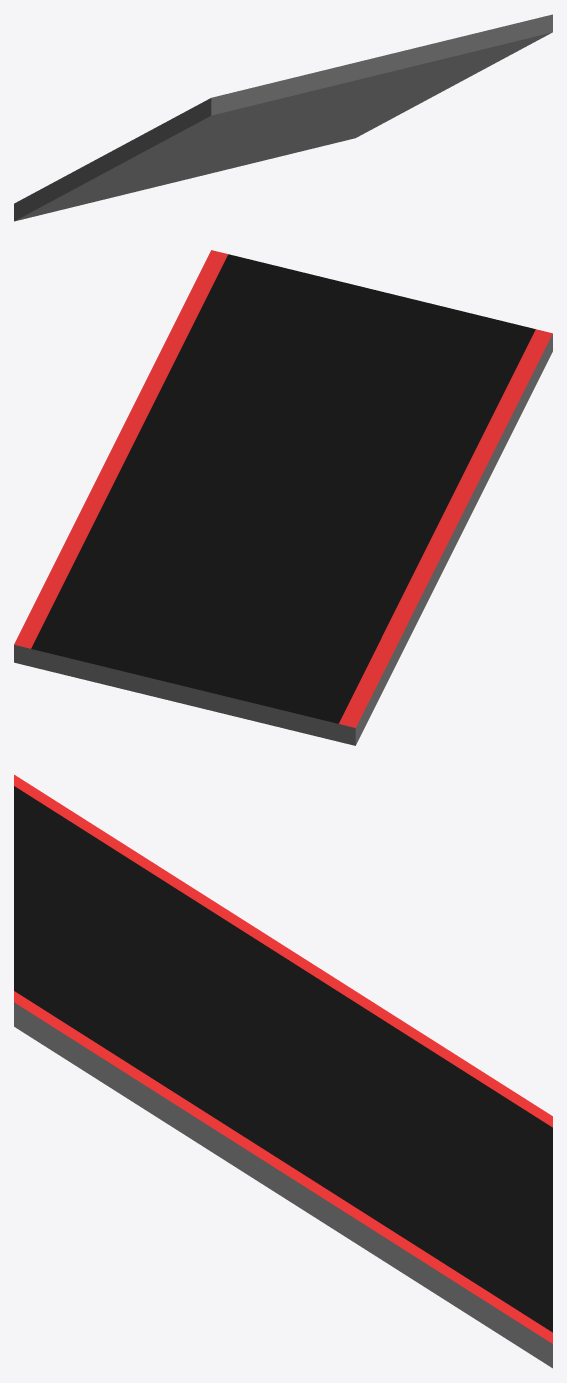
The model's file is Streckenmodul_-_Rampe_Steil_Mitte.fbx.
3 renders of one model, top to bottom at view 1: azimuth 30°, elevation 25°; view 2: azimuth 150°, elevation 25°; view 3: azimuth 270°, elevation 25°, orthographic. The views are drawn at different scales.
Parts seen in each view (by area): view 1: Streckenmodul - Rampe_Steil_Mitte; view 2: Streckenmodul - Rampe_Steil_Mitte; view 3: Streckenmodul - Rampe_Steil_Mitte.
Boxes of the visible parts, x1,y1,x2,y2 form: Streckenmodul - Rampe_Steil_Mitte: (14, 14, 552, 221); Streckenmodul - Rampe_Steil_Mitte: (14, 250, 552, 745); Streckenmodul - Rampe_Steil_Mitte: (14, 774, 552, 1368).
Size of the model in its own units: 394 by 295 by 394.
